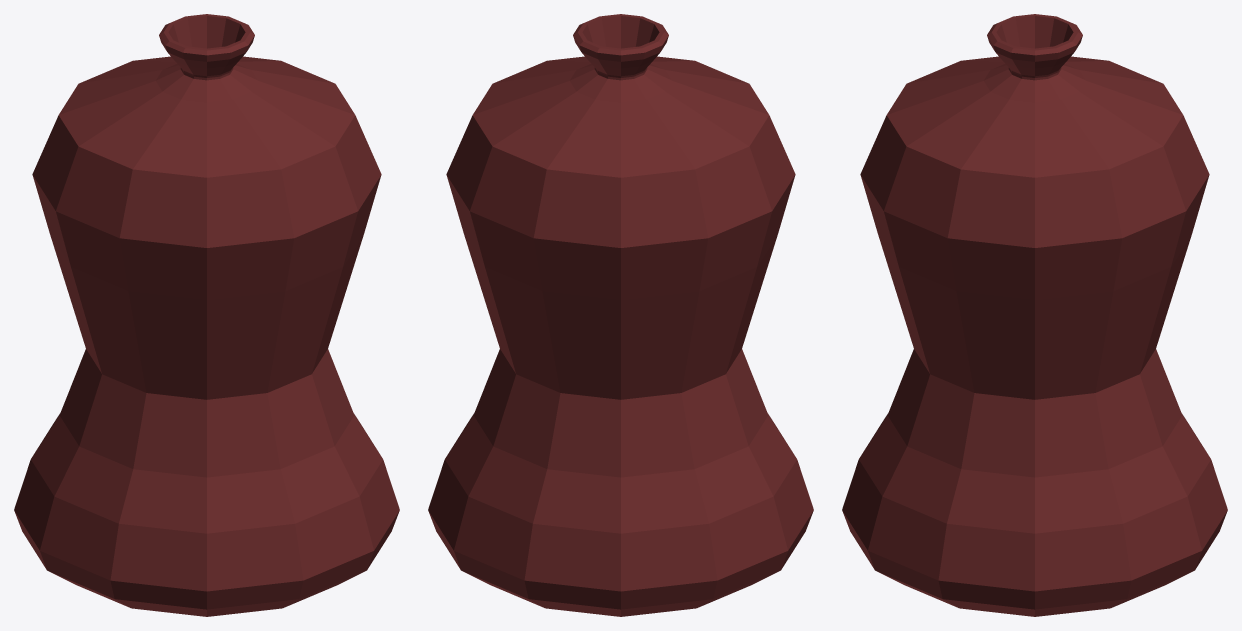
Rendered from Pot04.fbx.
The picture shows the model from 3 angles, left to right: view 1: azimuth 30°, elevation 25°; view 2: azimuth 150°, elevation 25°; view 3: azimuth 270°, elevation 25°; orthographic projection.
Parts seen in each view (by area): view 1: Pot04; view 2: Pot04; view 3: Pot04.
Part boxes in pixels (box(x1,y1,x2,y2)): Pot04: box(14, 14, 399, 616); Pot04: box(428, 14, 813, 616); Pot04: box(842, 14, 1227, 616).
Bounding box in the file's own units: 77.63 × 118 × 77.63.
